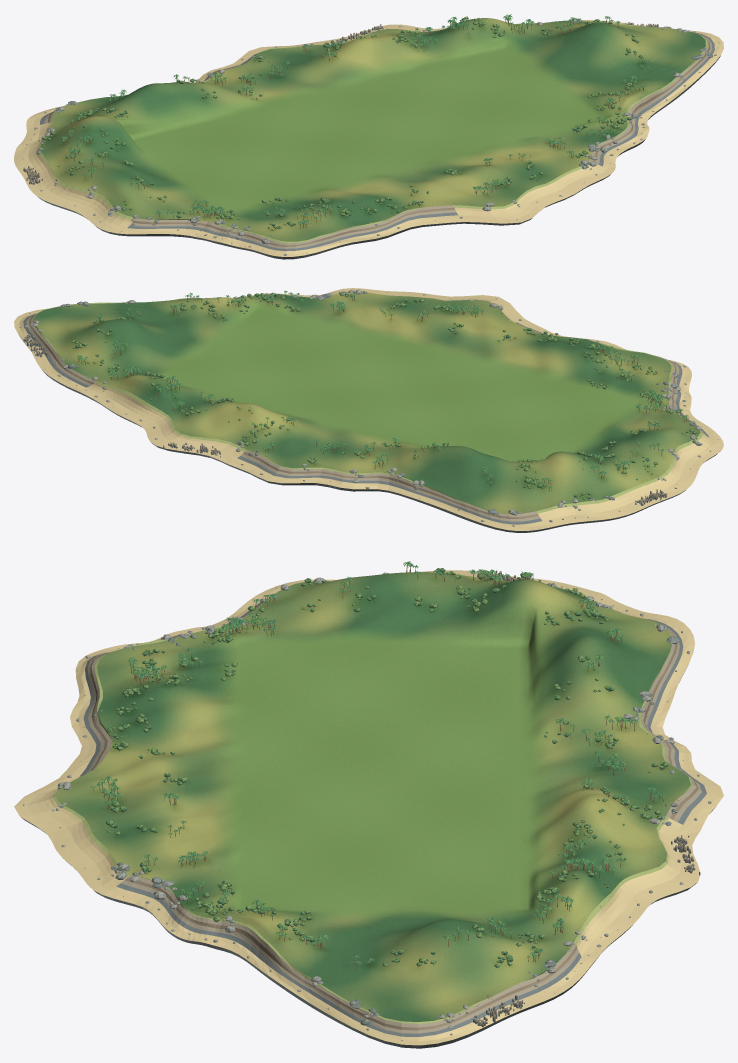
The model's file is island_01.glb.
The picture shows the model from 3 angles, top to bottom: view 1: azimuth 30°, elevation 25°; view 2: azimuth 150°, elevation 25°; view 3: azimuth 270°, elevation 25°; orthographic projection. The views are drawn at different scales.
Parts seen in each view (by area): view 1: Island01 Terrain-col; view 2: Island01 Terrain-col; view 3: Island01 Terrain-col.
Boxes of the visible parts, bbox=[...] form: Island01 Terrain-col: bbox=[14, 18, 723, 259]; Island01 Terrain-col: bbox=[14, 288, 723, 532]; Island01 Terrain-col: bbox=[14, 570, 723, 1048].
Size of the model in its own units: 1698 by 101 by 1069.
25 materials, 2 textured.
